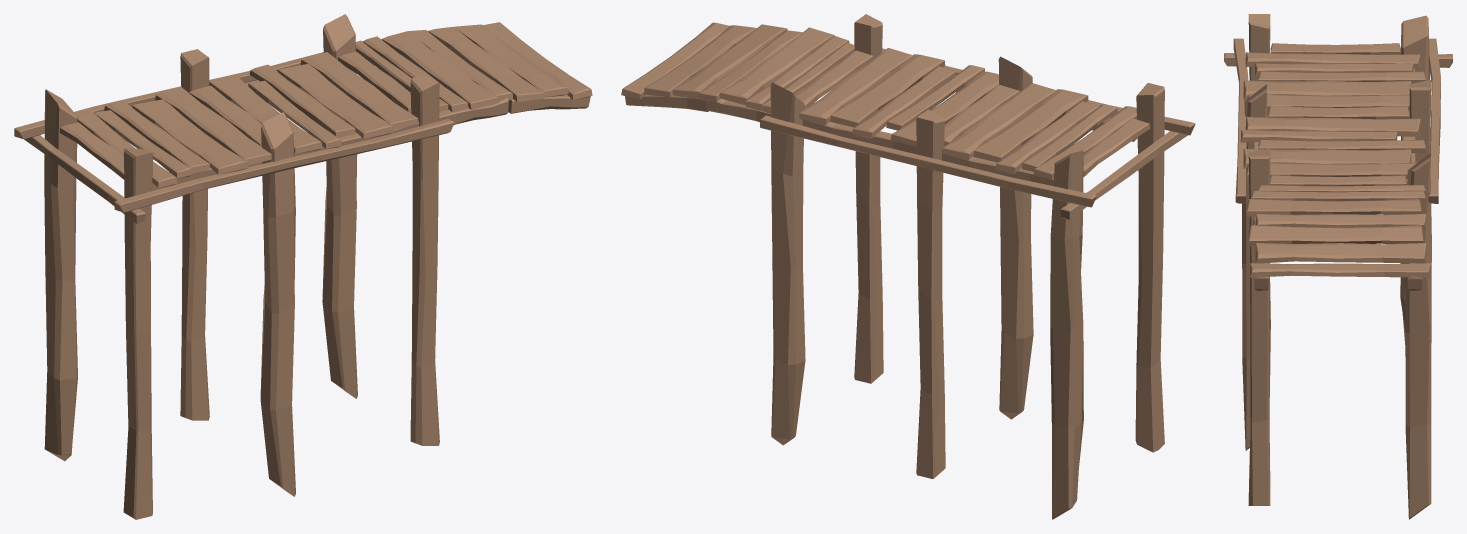
Rendered from BridgePontoon.fbx.
3 views of the same model, side by side, from view 1: azimuth 30°, elevation 25°; view 2: azimuth 150°, elevation 25°; view 3: azimuth 270°, elevation 25° (orthographic). The views are drawn at different scales.
Visible parts, largest first — view 1: bridge_pontoon_01.001; view 2: bridge_pontoon_01.001; view 3: bridge_pontoon_01.001.
Boxes of the visible parts, bbox=[...] form: bridge_pontoon_01.001: bbox=[14, 14, 592, 519]; bridge_pontoon_01.001: bbox=[621, 14, 1195, 519]; bridge_pontoon_01.001: bbox=[1224, 14, 1452, 519].
Size of what is drawn, in the model's own units: 4.21 by 3.15 by 1.8.
